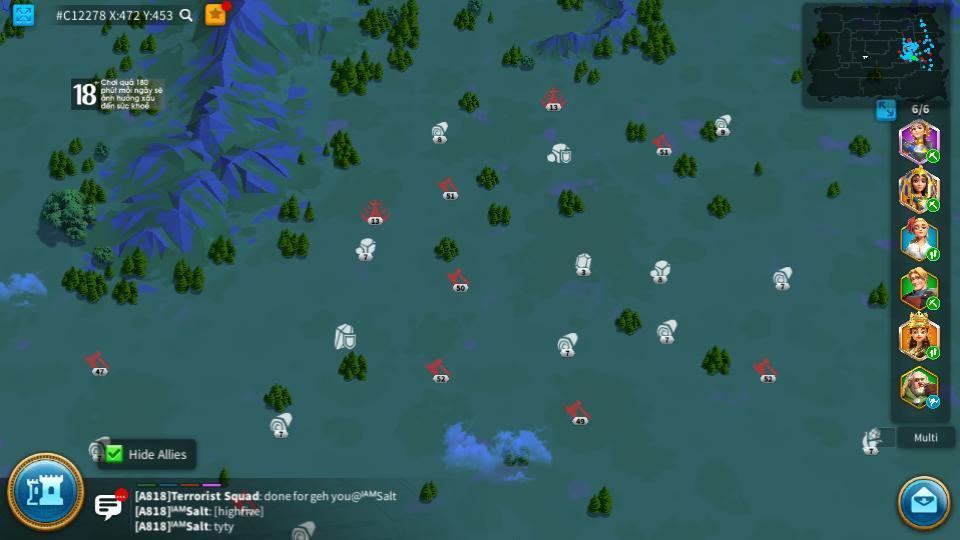gem-z-out: (573, 253, 591, 275)
march_idle: (925, 396, 942, 408)
march_marching: (925, 196, 941, 211), (925, 345, 941, 359), (925, 150, 941, 162), (925, 248, 941, 260), (925, 297, 942, 308)
